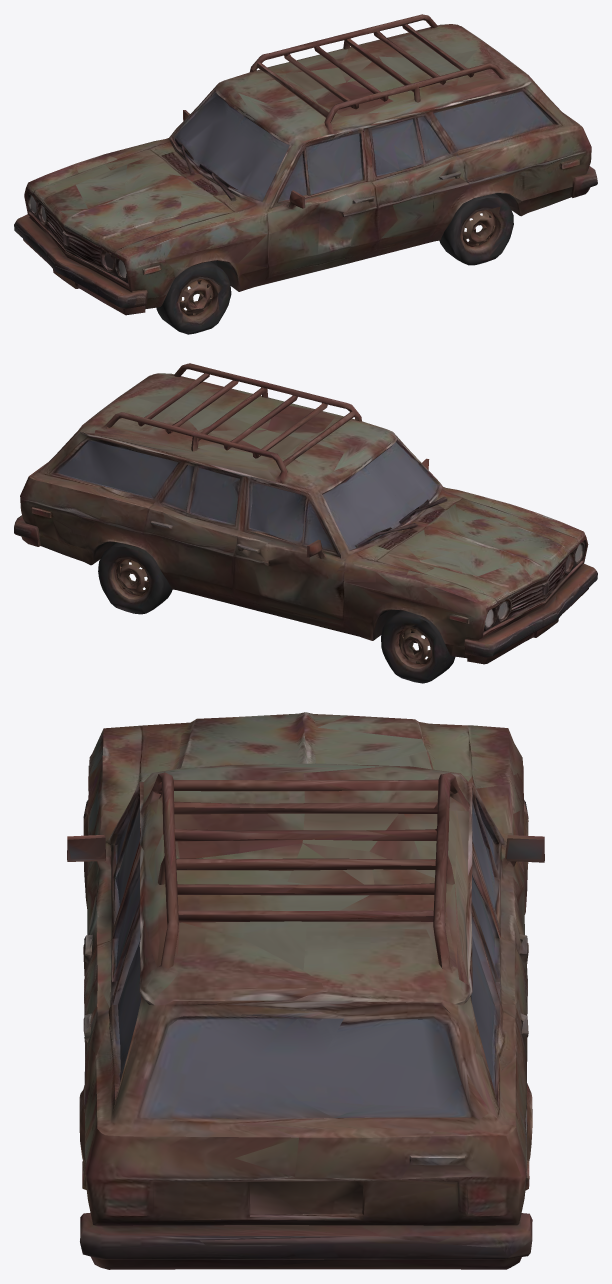
The model's file is car_station_wagon_idle.glb.
3 renders of one model, top to bottom at view 1: azimuth 30°, elevation 25°; view 2: azimuth 150°, elevation 25°; view 3: azimuth 270°, elevation 25°, orthographic. The views are drawn at different scales.
Parts seen in each view (by area): view 1: tripo_node_2ebc9437-35f0-43f3-b182-ad00fa4fe8fd; view 2: tripo_node_2ebc9437-35f0-43f3-b182-ad00fa4fe8fd; view 3: tripo_node_2ebc9437-35f0-43f3-b182-ad00fa4fe8fd.
Part boxes in pixels (x1,y1,x2,y2): tripo_node_2ebc9437-35f0-43f3-b182-ad00fa4fe8fd: [14, 14, 597, 334]; tripo_node_2ebc9437-35f0-43f3-b182-ad00fa4fe8fd: [14, 363, 597, 683]; tripo_node_2ebc9437-35f0-43f3-b182-ad00fa4fe8fd: [67, 712, 544, 1269].
Bounding box in the file's own units: 4.8 × 1.71 × 2.02.
1 material, 1 textured.
